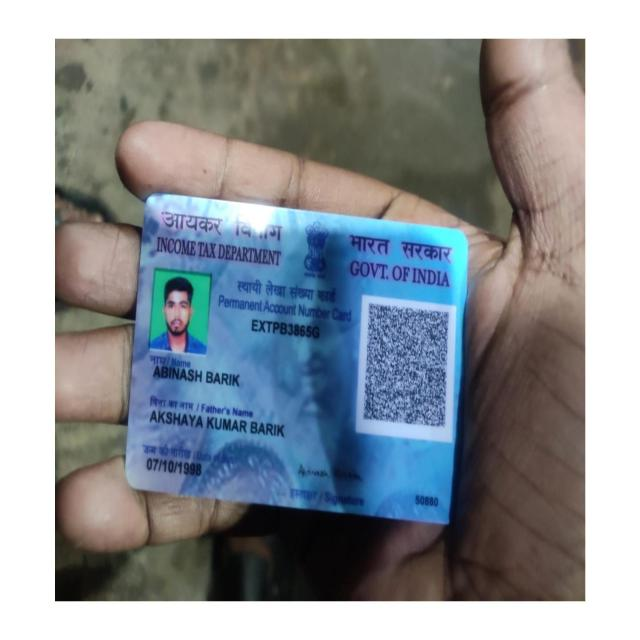pan_card: (124, 198, 465, 520)
